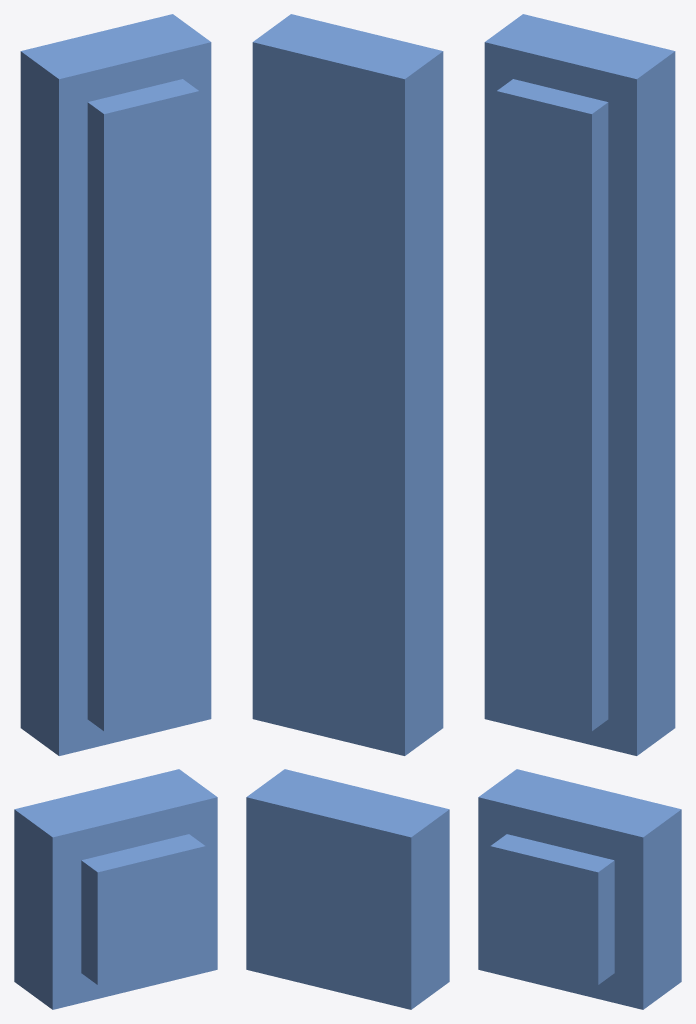
File: exclamation_mark.FBX
3 renders of one model, left to right at view 1: azimuth 30°, elevation 25°; view 2: azimuth 150°, elevation 25°; view 3: azimuth 330°, elevation 25°, orthographic.
Parts seen in each view (by area): view 1: !; view 2: !; view 3: !.
Part boxes in pixels (x1,y1,x2,y2): !: [14, 14, 217, 1009]; !: [246, 14, 449, 1009]; !: [478, 14, 681, 1009].
Size of the model in its own units: 0.8666 by 4.67 by 0.5.
